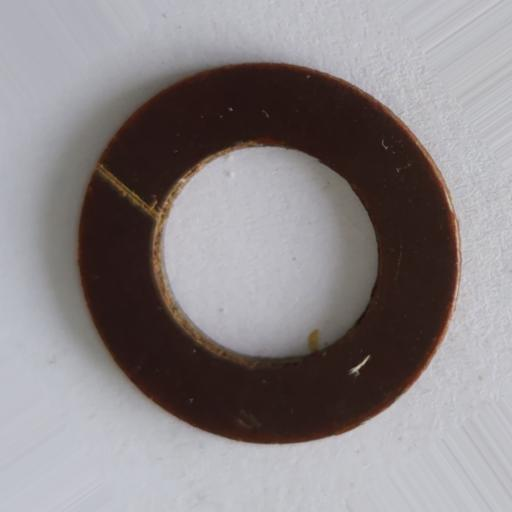defect: (96, 164, 162, 223)
